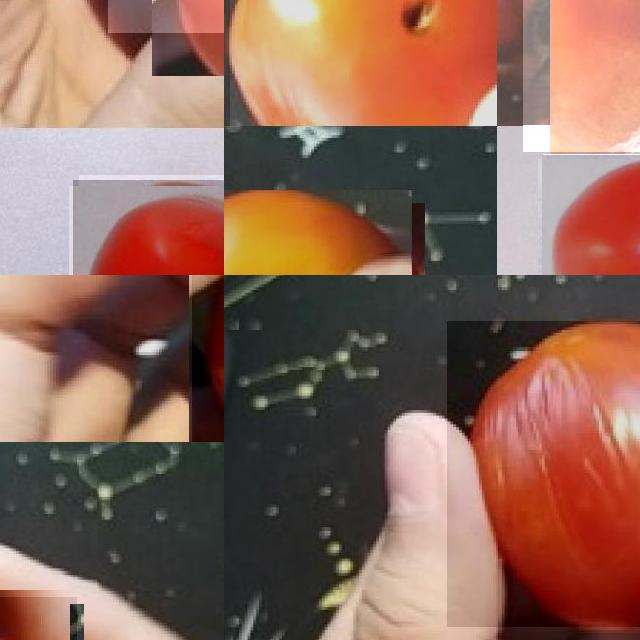Fresh Tomato: (224, 190, 394, 275), (73, 180, 224, 275), (542, 154, 640, 275)
Rotten Tomato: (446, 321, 640, 627), (230, 0, 497, 126)
